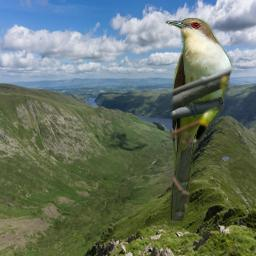Cuckoo: (165, 17, 234, 221)
